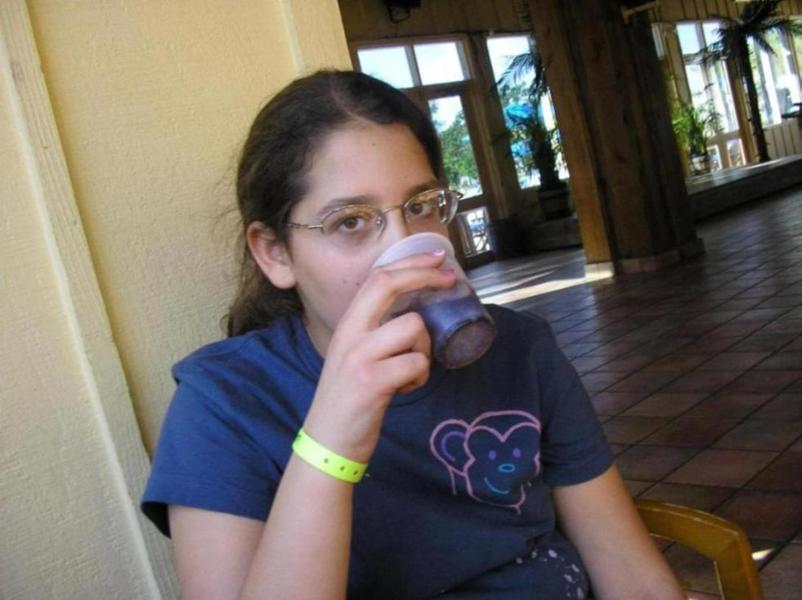person: (140, 68, 688, 600)
